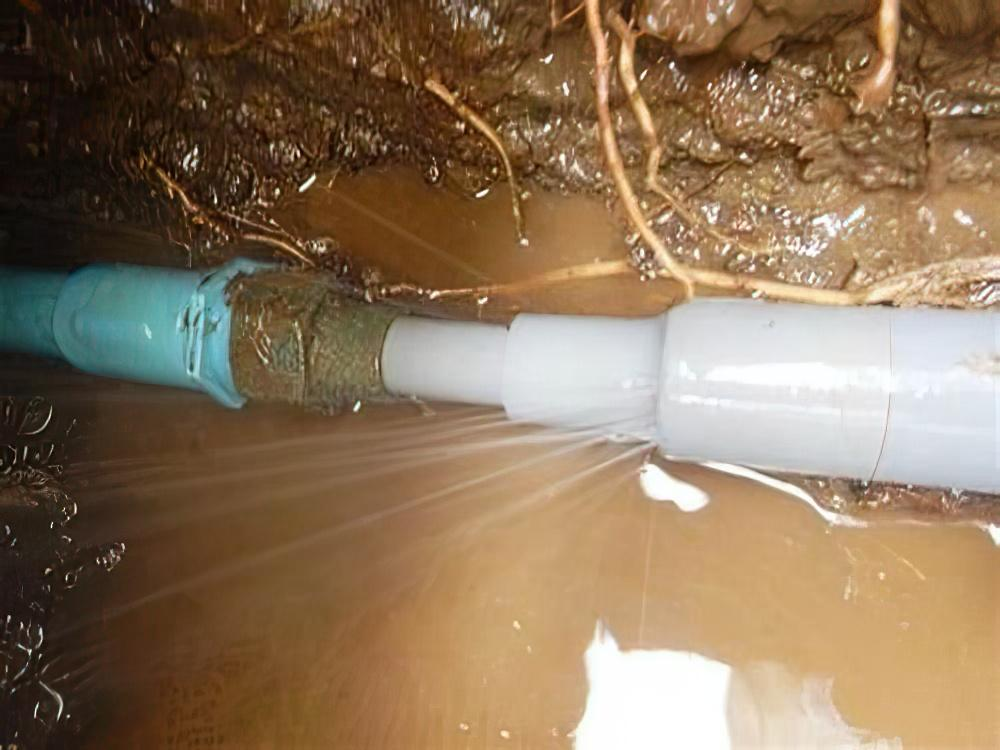pipe burst: (90, 386, 684, 599)
water accumulation: (0, 161, 1000, 750)
